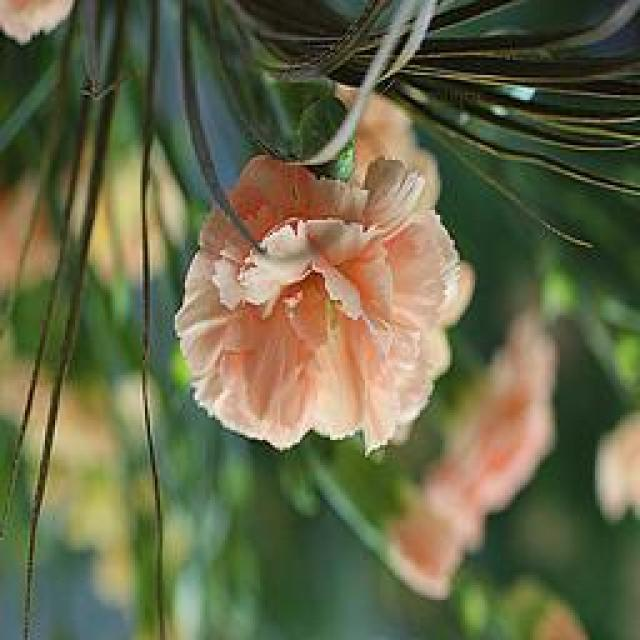carnation: (167, 142, 483, 461)
